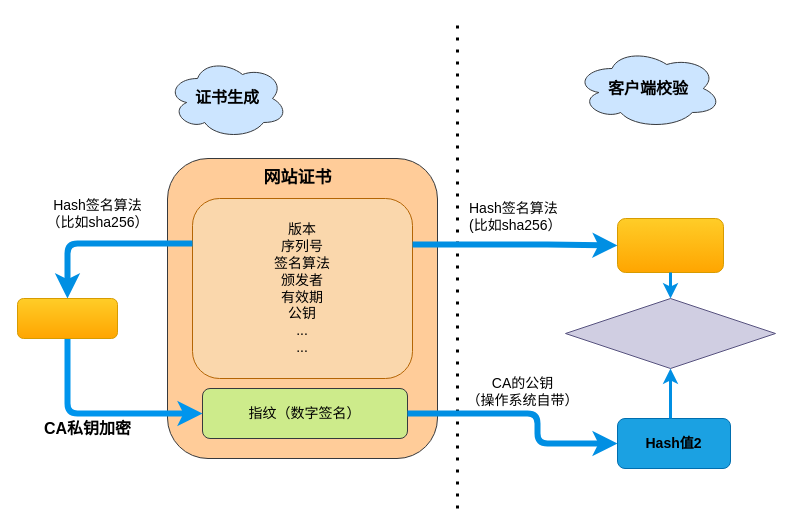
Some shapes in this 793 by 528 pixel diagram are drawn without their labels. Each missing label, with the centre of its shape:
Hash值: (x=67, y=318)
Hash值1: (x=670, y=245)
Hash值1 === Hash值2 ？: (x=670, y=333)
